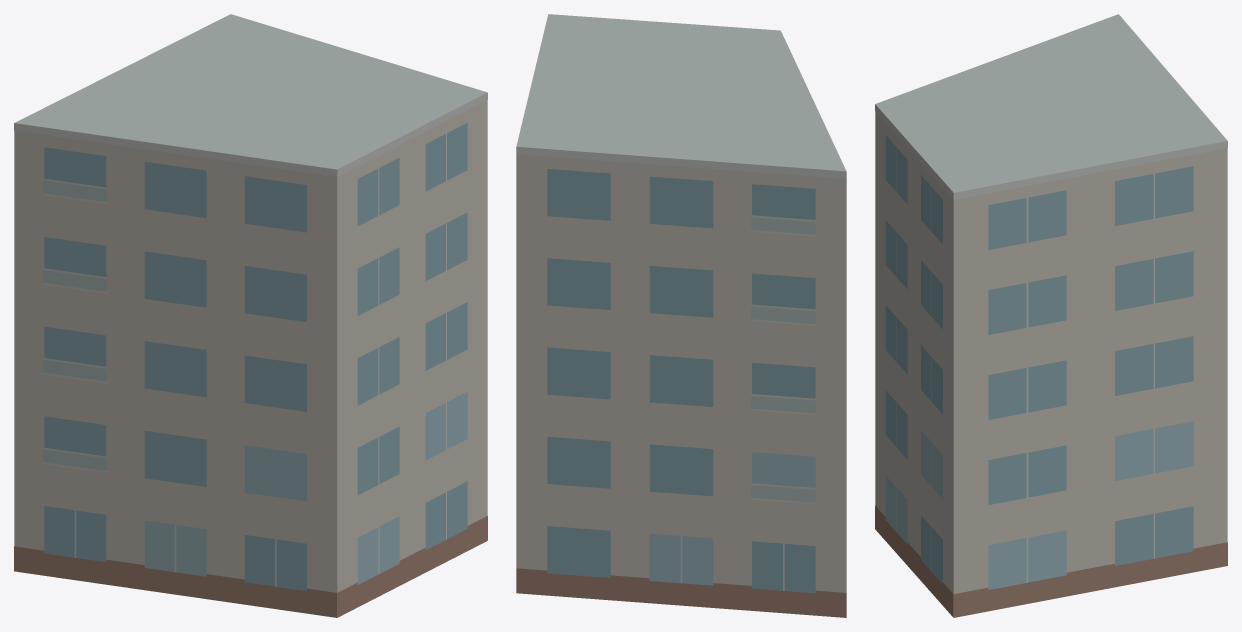
File: survey-upis-32964520.glb
The picture shows the model from 3 angles, left to right: view 1: azimuth 30°, elevation 25°; view 2: azimuth 150°, elevation 25°; view 3: azimuth 270°, elevation 25°; orthographic projection. The views are drawn at different scales.
Visible parts, largest first — view 1: survey-upis-32964520.tmp; view 2: survey-upis-32964520.tmp; view 3: survey-upis-32964520.tmp.
Part boxes in pixels (x1,y1,x2,y2): survey-upis-32964520.tmp: (14, 14, 487, 617); survey-upis-32964520.tmp: (516, 14, 846, 617); survey-upis-32964520.tmp: (875, 14, 1227, 617).
Size of the model in its own units: 13.19 by 14.6 by 10.99.
